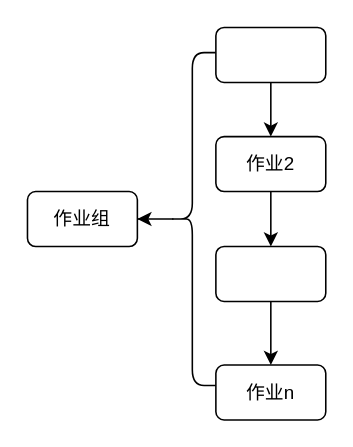
Some shapes in this 353 by 447 pixel diagram are drawn without their labels. The shapes that lost their labels are listed below. From the top down, each one's box as (x1, y1, x2, y2) in pixels, then its label:
(214, 26, 326, 82): 作业1
(214, 245, 326, 301): 作业...
